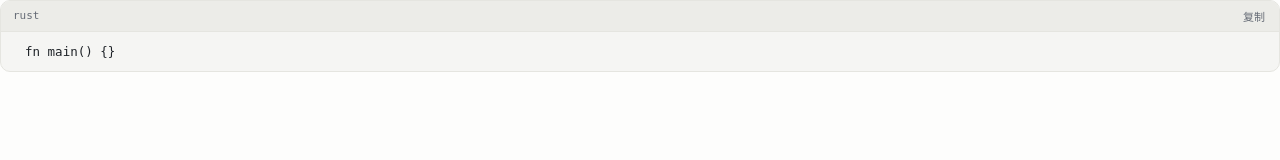
Markdown actions › copies a code block
Click the button with aria-label "复制代码" at (1254, 16), box top-left (1235, 5), bottom-right (1273, 27)
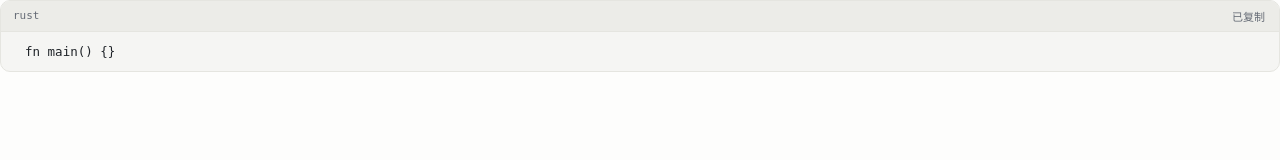
Expected: the button with aria-label "复制代码" reads "已复制", top-left (1224, 5), bottom-right (1273, 27)
